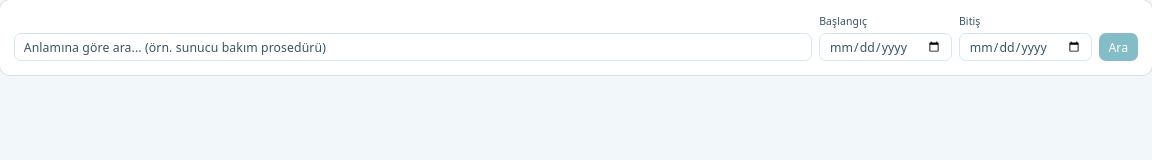
WikiSearch › API hata döndürürse hata mesajını gösterir, sonuç listesi render ETMEZ
The width and height of the screenshot is (1152, 160).
In the field with placeholder "Anlamına göre ara... (örn. sunucu bakım prosedürü)": point(413, 47) 14,33 -> 812,61, type "her şey"
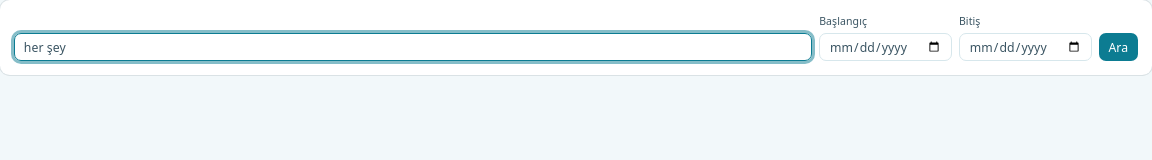
Click the button "Ara": point(1118, 47) 1099,33 -> 1138,61
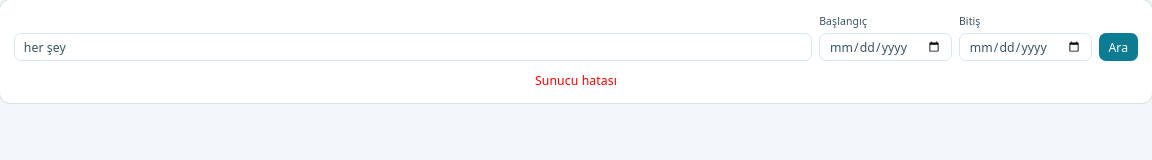
Now the text "Sunucu hatası" is shown, box 535,72 -> 617,89
